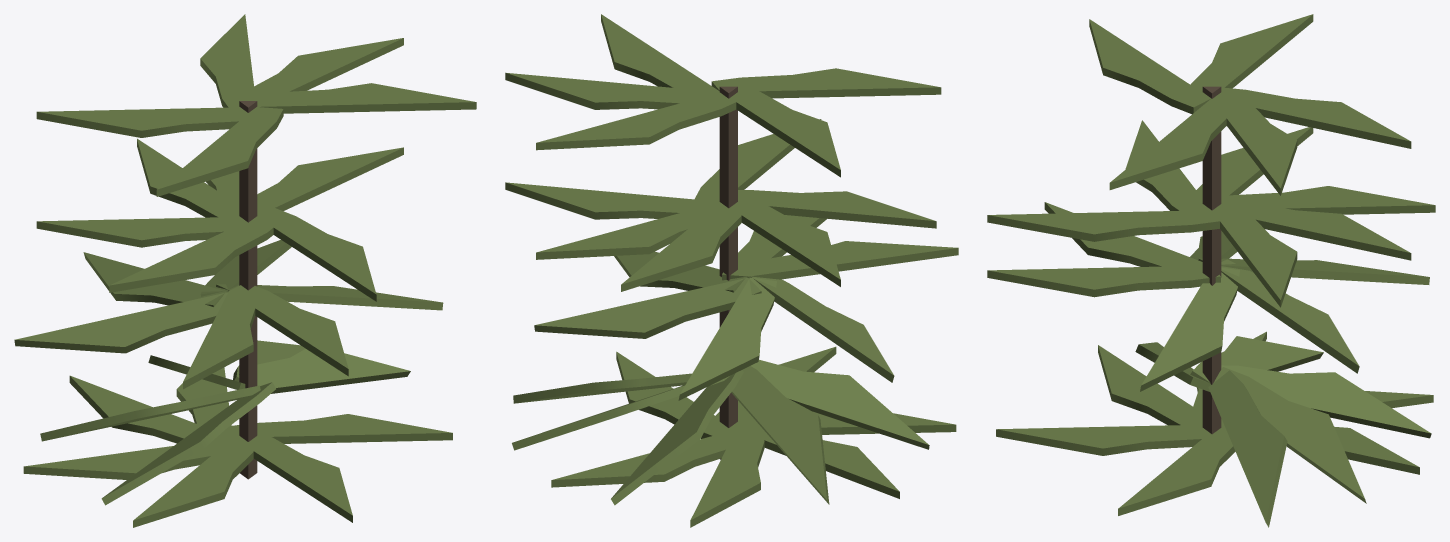
File: Plant4.fbx
3 views of the same model, side by side, from view 1: azimuth 30°, elevation 25°; view 2: azimuth 150°, elevation 25°; view 3: azimuth 270°, elevation 25° (orthographic).
Parts seen in each view (by area): view 1: Plant2; view 2: Plant2; view 3: Plant2.
Boxes of the visible parts, left/top/right/bottom form: Plant2: left=14, top=14, right=476, bottom=527; Plant2: left=505, top=14, right=958, bottom=527; Plant2: left=987, top=14, right=1435, bottom=527.
Bounding box in the file's own units: 2.76 × 2.52 × 2.7.
